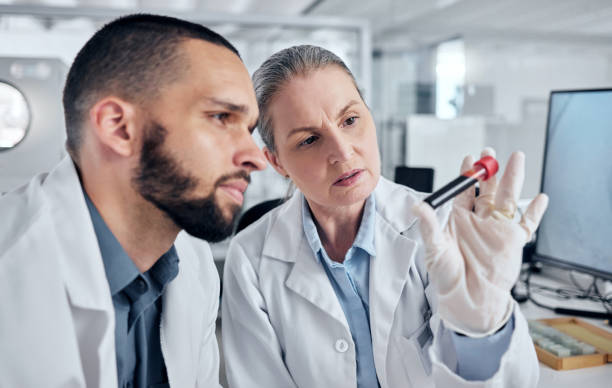blood: (421, 176, 482, 211)
